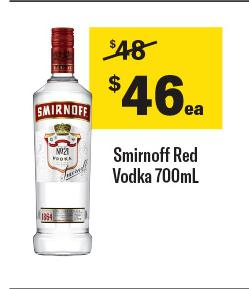description_block: (107, 142, 209, 191)
price_main: (90, 67, 231, 137)
product_image_block: (16, 19, 106, 264)
